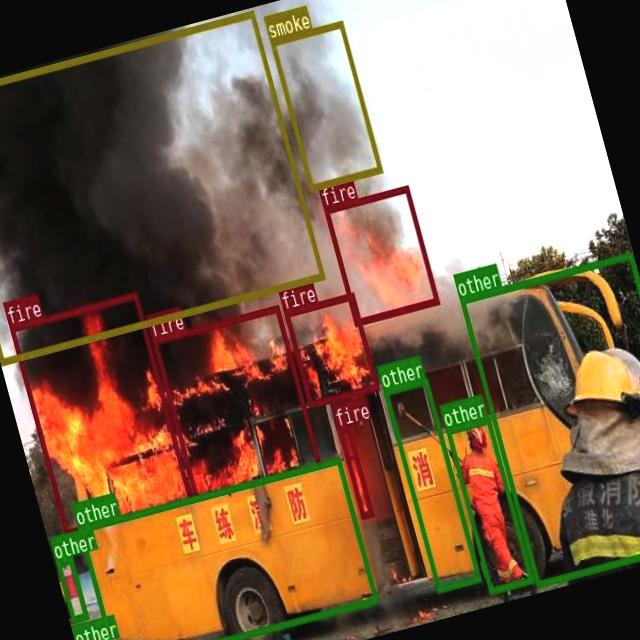fire: (8, 290, 191, 534), (150, 303, 321, 501), (322, 184, 438, 324), (283, 292, 378, 406), (337, 424, 372, 517)
smoke: (0, 9, 323, 364), (268, 20, 382, 190)
